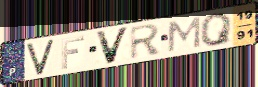F: (60, 34, 87, 70)
M: (166, 15, 202, 54)
Q: (199, 11, 235, 48)
R: (129, 22, 164, 61)
V: (93, 25, 132, 66), (26, 38, 56, 77)
